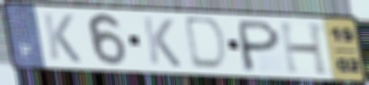6: (85, 11, 129, 69)
D: (184, 15, 230, 73)
H: (276, 21, 332, 77)
K: (140, 15, 184, 69), (40, 11, 84, 65)
P: (238, 18, 284, 75)
